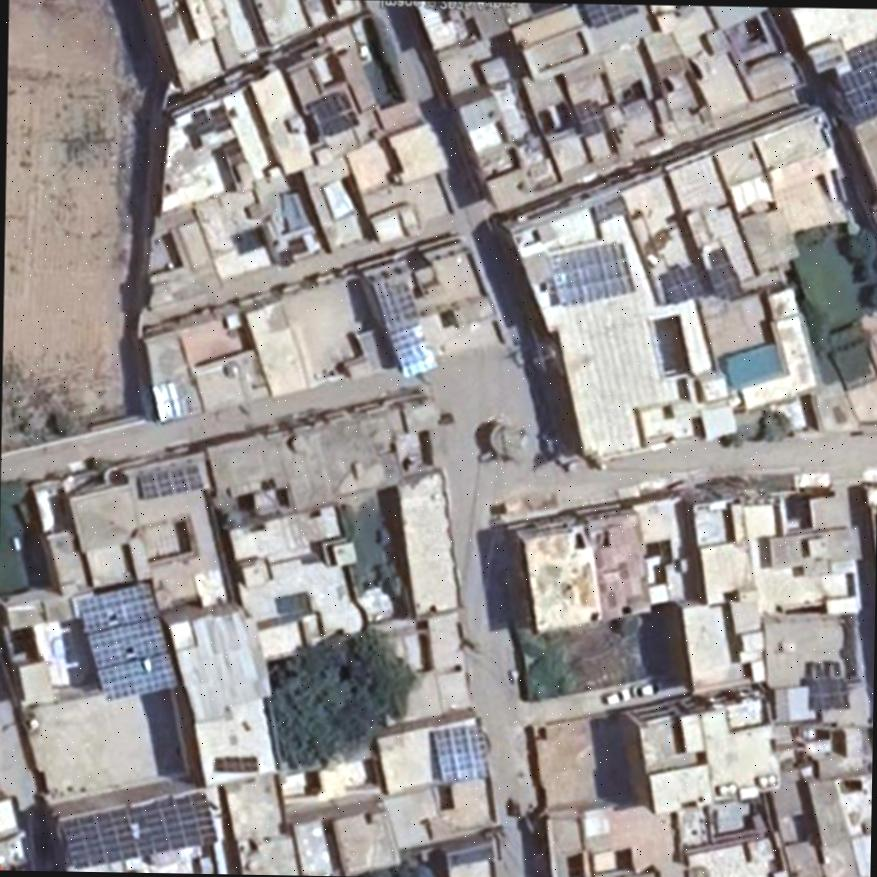Solarpanel: (75, 581, 177, 700), (58, 792, 215, 869), (547, 240, 634, 305), (830, 37, 877, 120), (431, 723, 485, 780), (389, 321, 438, 378), (310, 88, 356, 134), (659, 263, 709, 305), (136, 466, 202, 497), (373, 279, 417, 324), (581, 4, 639, 25)
